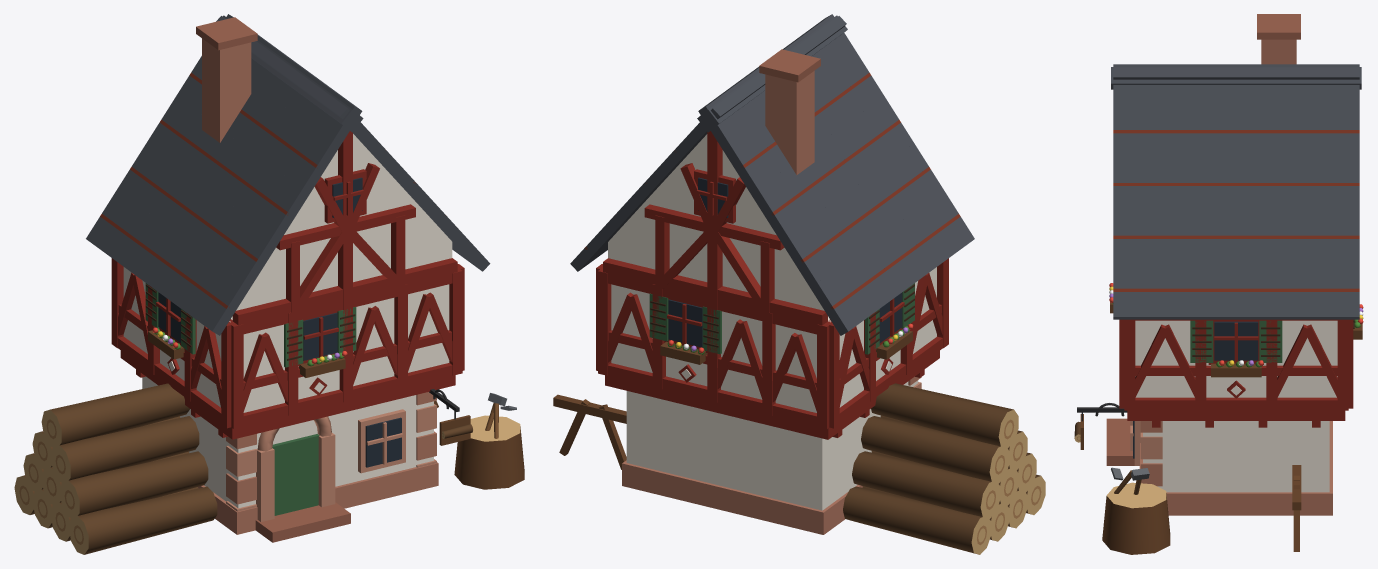
Rendered from holzfaeller.glb.
3 views of the same model, side by side, from view 1: azimuth 30°, elevation 25°; view 2: azimuth 150°, elevation 25°; view 3: azimuth 270°, elevation 25° (orthographic). The views are drawn at different scales.
Bounding box in the file's own units: 4.32 × 4.29 × 2.63.
